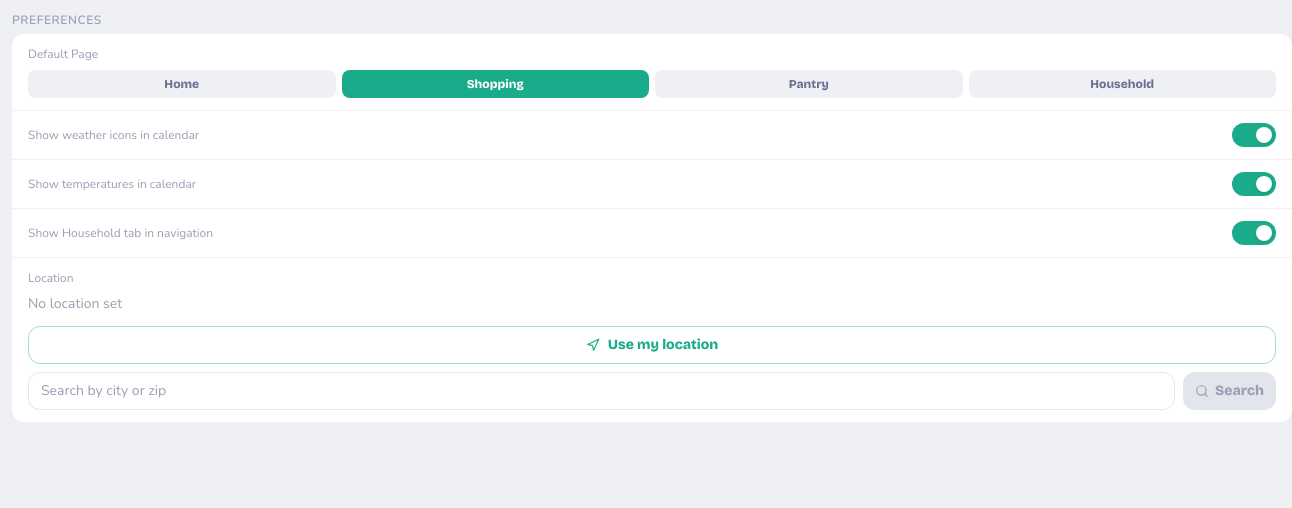
Scenario: PreferencesSection › shows Save button after changing the default page
The image size is (1292, 508).
Click the button "Pantry". click: click(809, 84)
box: [655,70,962,98]
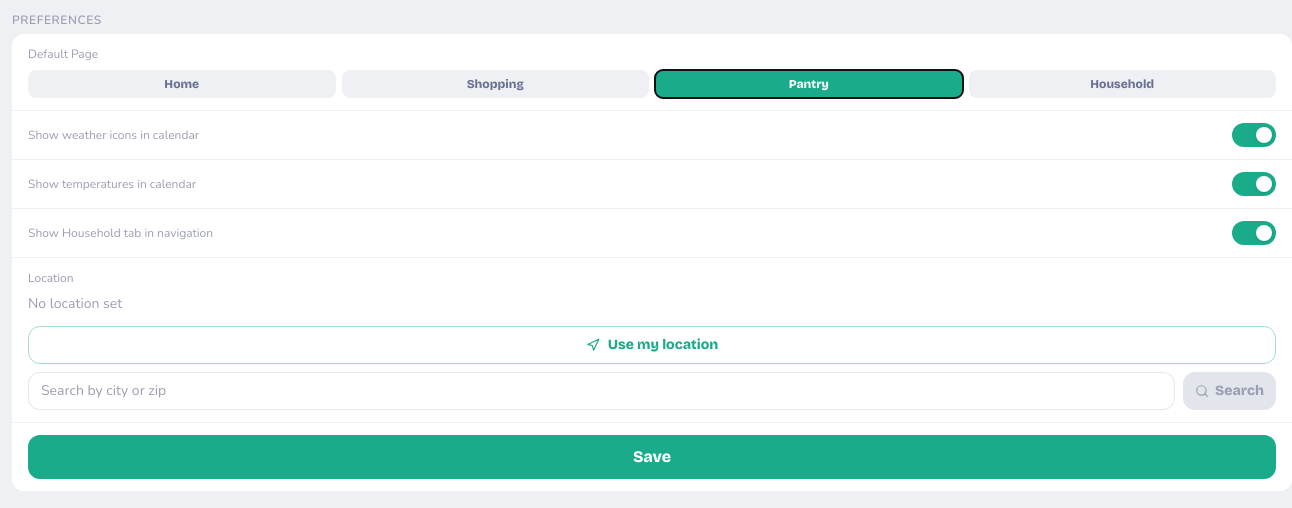
Check: the button "Save" is shown, box [28,435,1276,479]
